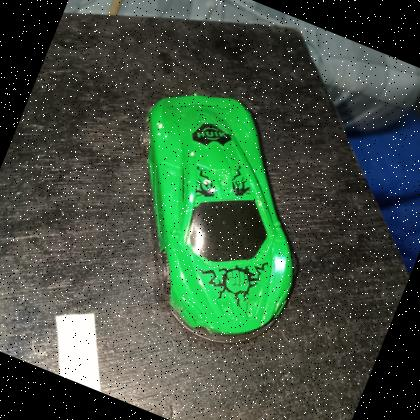Car: (147, 95, 296, 339)
